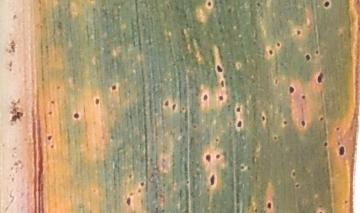tarspot: (333, 138, 348, 160), (206, 172, 220, 192), (212, 62, 227, 77), (107, 80, 121, 96), (158, 94, 171, 108), (215, 91, 228, 105), (233, 117, 247, 130), (296, 118, 311, 130), (203, 149, 213, 166), (318, 1, 335, 11), (91, 94, 103, 108), (121, 193, 135, 205), (314, 70, 326, 84), (198, 91, 211, 103), (302, 50, 314, 63), (320, 138, 333, 150), (230, 104, 245, 114), (264, 197, 274, 212), (216, 78, 228, 90), (286, 84, 298, 95), (292, 181, 303, 193), (279, 117, 292, 127), (202, 1, 216, 10), (265, 45, 274, 59), (48, 97, 58, 109), (214, 151, 224, 163), (292, 28, 304, 38), (298, 92, 308, 104), (71, 108, 80, 121), (259, 112, 268, 125), (288, 167, 297, 180), (43, 131, 53, 142), (136, 179, 146, 190), (316, 114, 327, 124), (212, 134, 222, 145), (273, 39, 282, 51), (253, 1, 266, 9), (224, 4, 233, 15), (270, 134, 282, 142), (333, 124, 343, 133), (54, 81, 62, 92), (189, 122, 200, 130), (235, 163, 246, 171), (341, 197, 350, 206)
